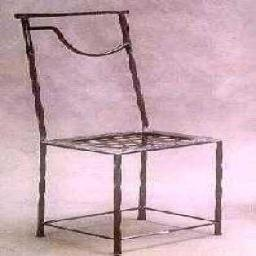Chair: (14, 11, 220, 250)
